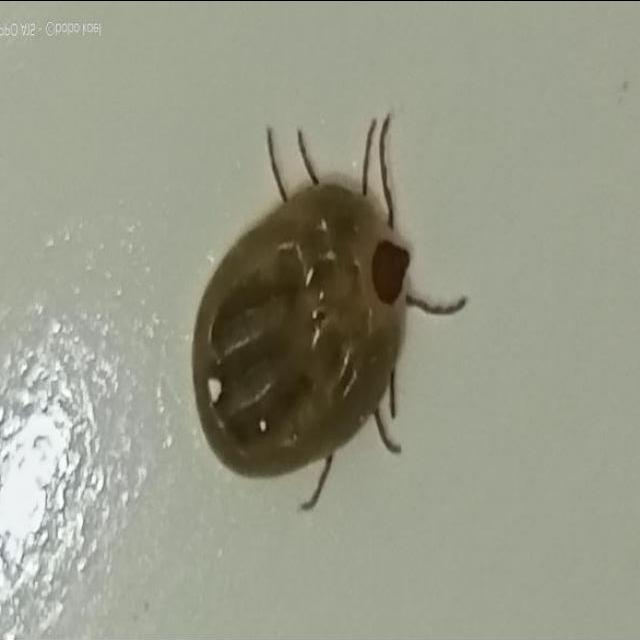Rhipicephalus Sanguineus-F-Fed: (190, 113, 467, 512)
